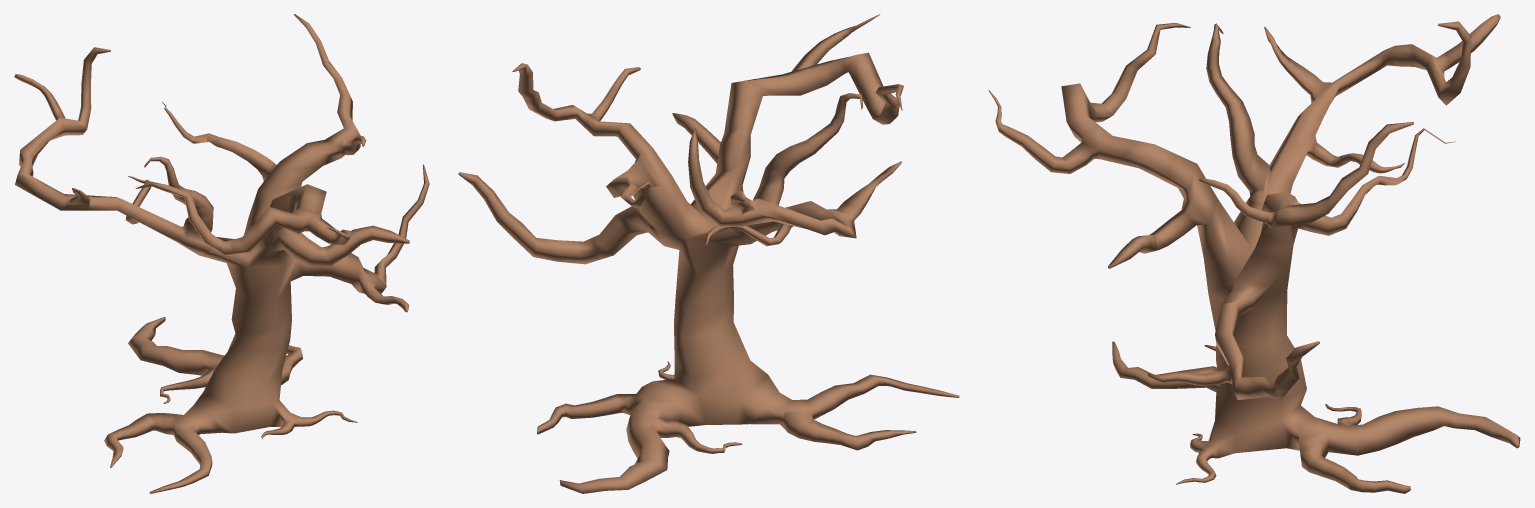
The model's file is tree_3.fbx.
The picture shows the model from 3 angles, left to right: view 1: azimuth 30°, elevation 25°; view 2: azimuth 150°, elevation 25°; view 3: azimuth 270°, elevation 25°; orthographic projection. The views are drawn at different scales.
Visible parts, largest first — view 1: tree_3; view 2: tree_3; view 3: tree_3.
Part boxes in pixels (x1,y1,x2,y2): tree_3: (14, 14, 429, 493); tree_3: (458, 14, 959, 493); tree_3: (988, 14, 1520, 493).
Bounding box in the file's own units: 574 × 467 × 585.
